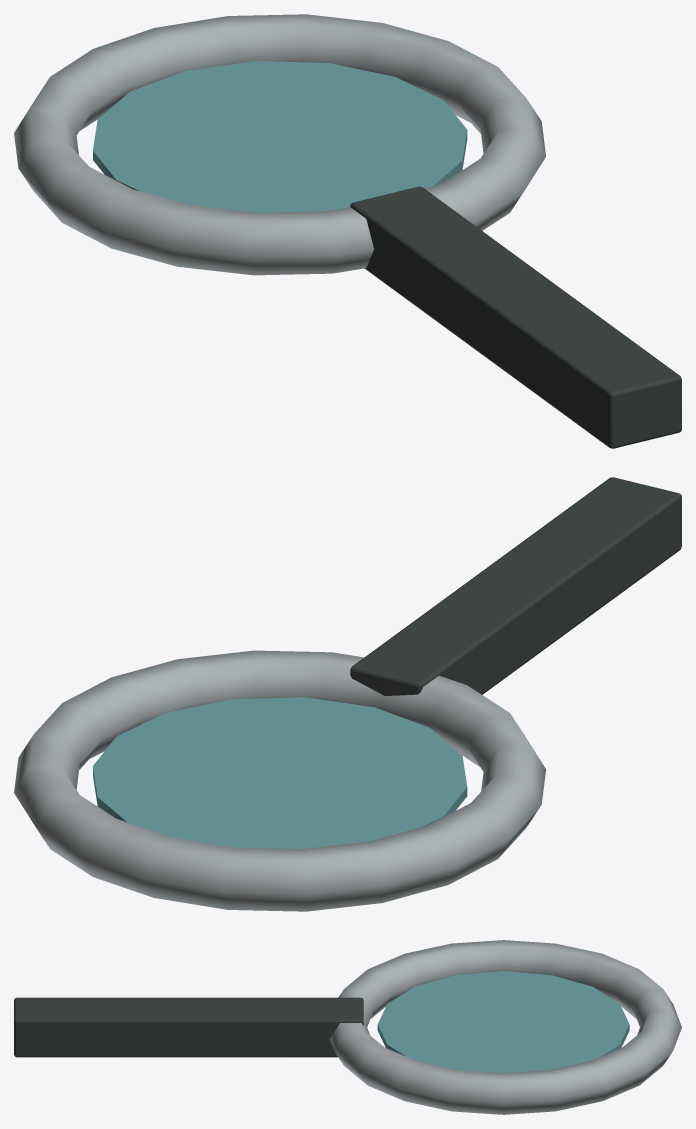
Rendered from scavengers-loot-library-magnifier-1e0bd7cf__2642.glb.
3 renders of one model, top to bottom at view 1: azimuth 30°, elevation 25°; view 2: azimuth 150°, elevation 25°; view 3: azimuth 270°, elevation 25°, orthographic. The views are drawn at different scales.
Parts seen in each view (by area): view 1: magnifier; view 2: magnifier; view 3: magnifier.
Boxes of the visible parts, x1,y1,x2,y2 form: magnifier: [14, 14, 681, 448]; magnifier: [14, 477, 681, 911]; magnifier: [14, 940, 681, 1114].
Bounding box in the file's own units: 0.102 × 0.012 × 0.191.
